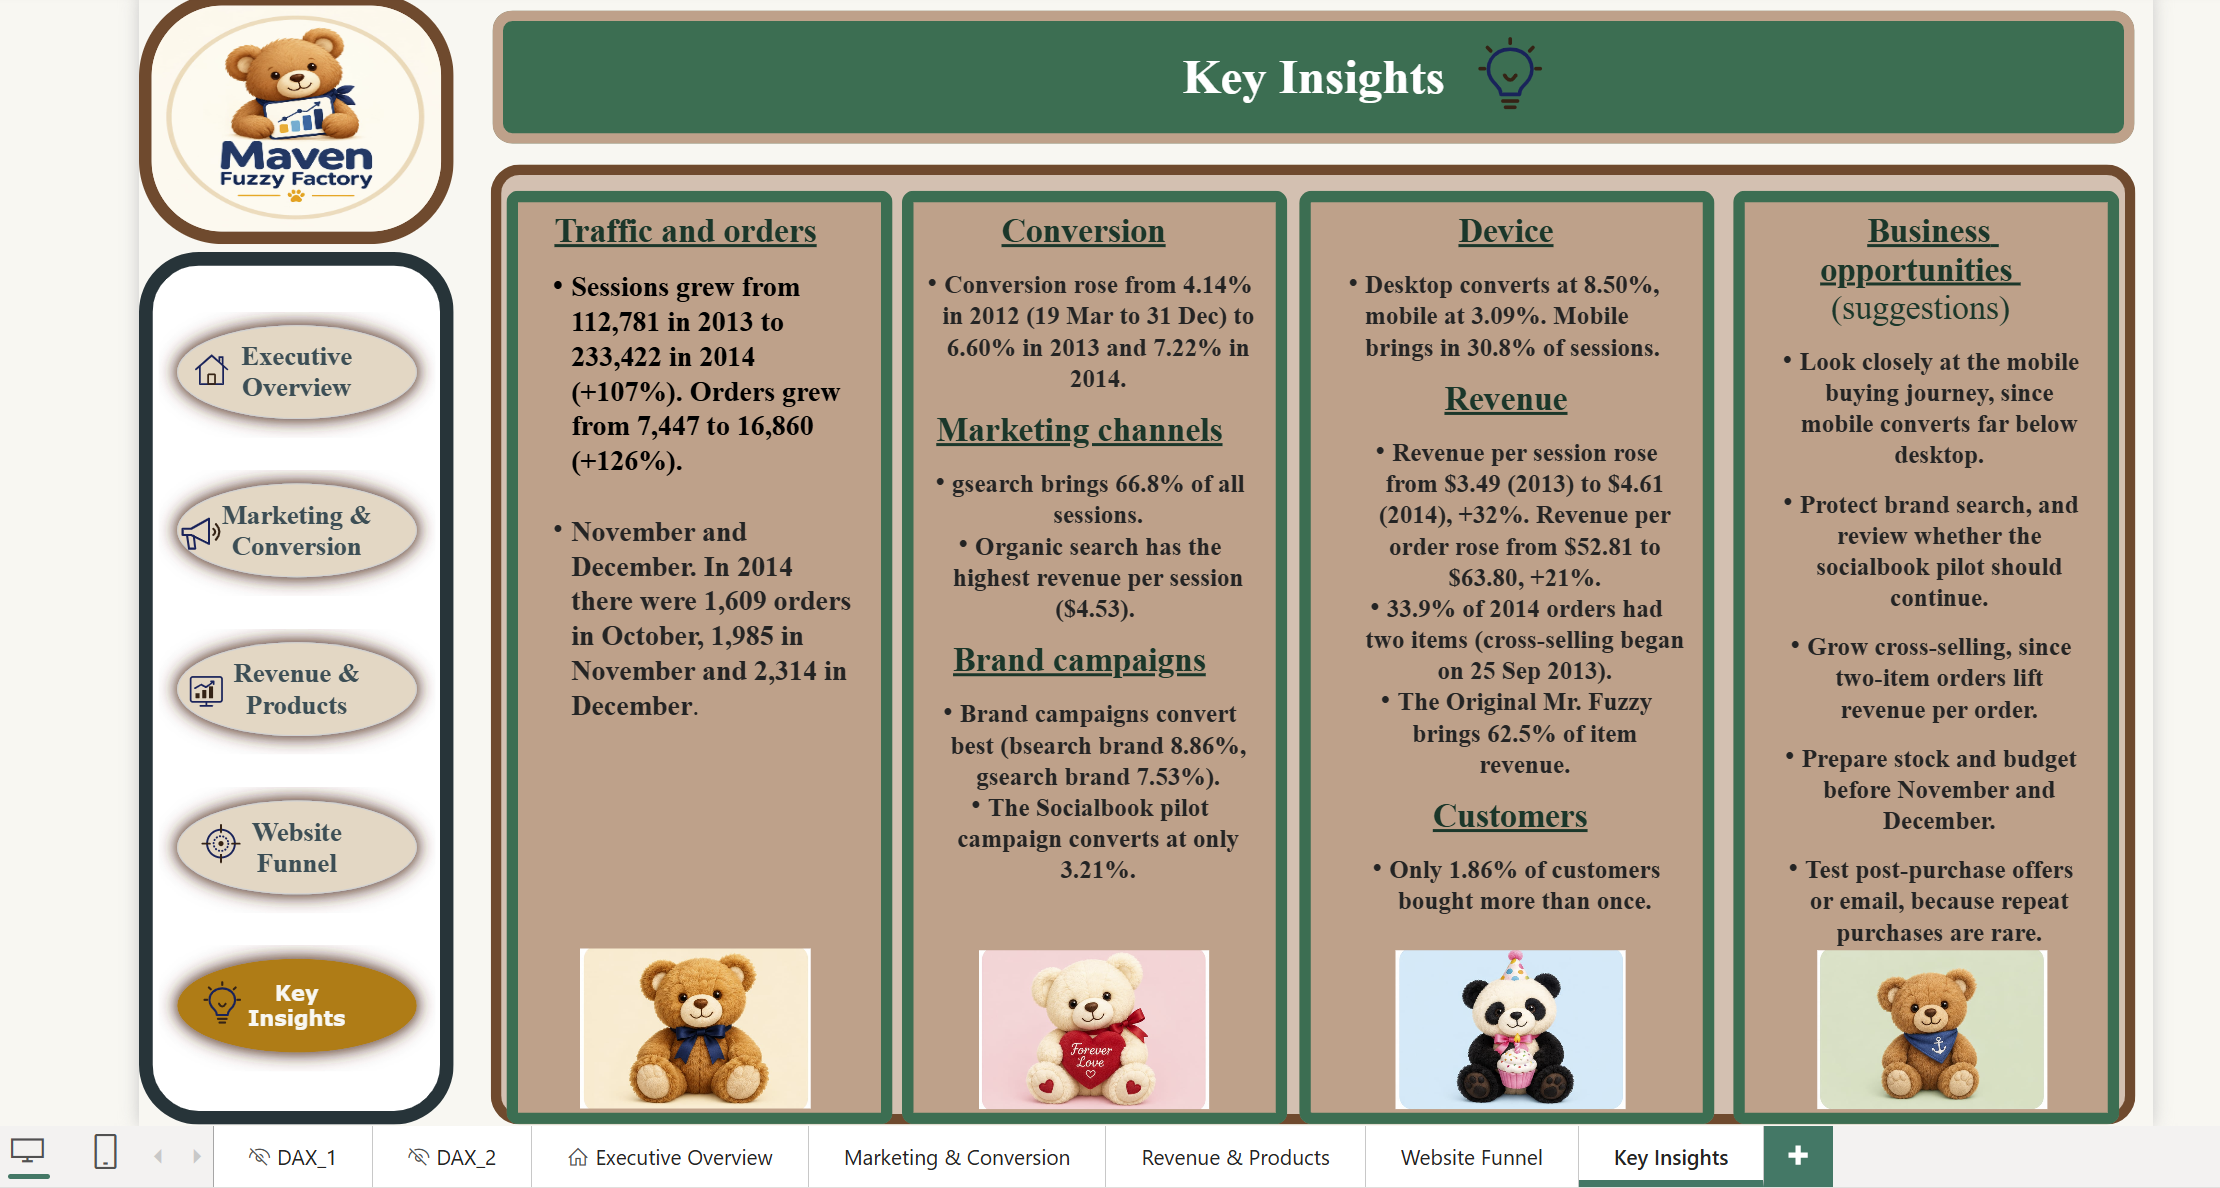

The page's visual inventory and layout, read from the dashboard file:
{"tool":"powerbi","page":{"name":"Key Insights","canvas":[1920,1080],"ordinal":6},"visuals":[{"type":"shape","box":[335.3,163.9,1568.1,915.2],"z":0},{"type":"shape","box":[0,247.1,300,832],"z":0,"group":"g2"},{"type":"shape","box":[336.4,16.9,1565.5,126.9],"z":1000,"group":"g1"},{"type":"shape","box":[1519.2,189.1,368.1,890],"z":1000},{"type":"shape","box":[350.4,189.1,368.1,890],"z":2000},{"type":"shape","box":[1106.8,189.1,395.8,890],"z":3000},{"type":"pageNavigator","box":[7.6,287.4,284.9,753.8],"z":3000,"group":"g2"},{"type":"shape","box":[726.9,189.1,367.3,890],"z":4000},{"type":"image","box":[50.4,335.3,38.5,47.5],"z":4000,"group":"g2"},{"type":"image","box":[0,0,300,239.5],"z":5000,"group":"g1"},{"type":"textbox","box":[1543.8,207.7,310.2,841.4],"z":5000},{"type":"image","box":[25.2,491.6,64,48],"z":5000,"group":"g2"},{"type":"textbox","box":[726.1,207.8,341.6,846.3],"z":6000},{"type":"image","box":[45.4,645.4,38.5,40.7],"z":6000,"group":"g2"},{"type":"textbox","box":[1132.6,207.8,340.8,843.2],"z":7000},{"type":"image","box":[57.1,776.4,42.9,70.6],"z":8000,"group":"g2"},{"type":"image","box":[421,911.8,220,152.3],"z":8000},{"type":"image","box":[801.7,912.6,219.3,151.3],"z":9000},{"type":"image","box":[52.9,941.5,52,47.5],"z":9000,"group":"g2"},{"type":"image","box":[1197.5,912.6,219.3,151.3],"z":10000},{"type":"image","box":[1600.9,912.6,219.3,151.3],"z":11000},{"type":"textbox","box":[372,207.7,312.7,844.4],"z":12000},{"type":"group","id":"g1","title":"Group 3","box":[0,0,1901.9,239.5],"z":13000},{"type":"group","id":"g2","title":"Group 4","box":[0,247.1,300,832],"z":14000},{"type":"image","box":[1263,40.2,88.2,80.7],"z":21000,"group":"g1"}]}

Visuals, with their boxes on the page's 1920x1080 design canvas (x1, y1, x2, y2). These are canvas units, not pixel positions in the 2220x1188 screenshot, which may show the page scaled, cropped or inside an application window:
shape: (335, 164, 1903, 1079)
shape: (0, 247, 300, 1079)
shape: (336, 17, 1902, 144)
shape: (1519, 189, 1887, 1079)
shape: (350, 189, 718, 1079)
shape: (1107, 189, 1503, 1079)
pageNavigator: (8, 287, 292, 1041)
shape: (727, 189, 1094, 1079)
image: (50, 335, 89, 383)
image: (0, 0, 300, 240)
textbox: (1544, 208, 1854, 1049)
image: (25, 492, 89, 540)
textbox: (726, 208, 1068, 1054)
image: (45, 645, 84, 686)
textbox: (1133, 208, 1473, 1051)
image: (57, 776, 100, 847)
image: (421, 912, 641, 1064)
image: (802, 913, 1021, 1064)
image: (53, 942, 105, 989)
image: (1198, 913, 1417, 1064)
image: (1601, 913, 1820, 1064)
textbox: (372, 208, 685, 1052)
"Group 3" group: (0, 0, 1902, 240)
"Group 4" group: (0, 247, 300, 1079)
image: (1263, 40, 1351, 121)
